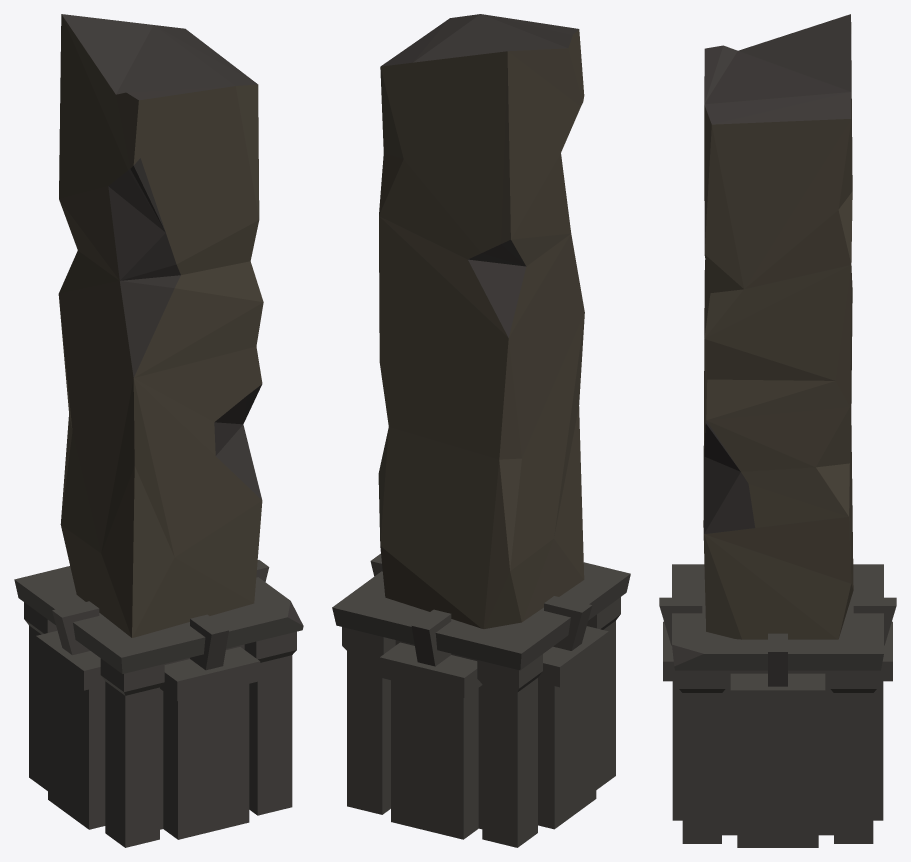
Rendered from Pillar_1C.fbx.
3 views of the same model, side by side, from view 1: azimuth 30°, elevation 25°; view 2: azimuth 150°, elevation 25°; view 3: azimuth 270°, elevation 25° (orthographic). The views are drawn at different scales.
Parts seen in each view (by area): view 1: polySurface1003; view 2: polySurface1003; view 3: polySurface1003.
Part boxes in pixels (<box>): polySurface1003: <box>14,14,303,847</box>; polySurface1003: <box>332,14,630,847</box>; polySurface1003: <box>659,14,896,847</box>.
Size of the model in its own units: 2.04 by 7.2 by 2.04.
